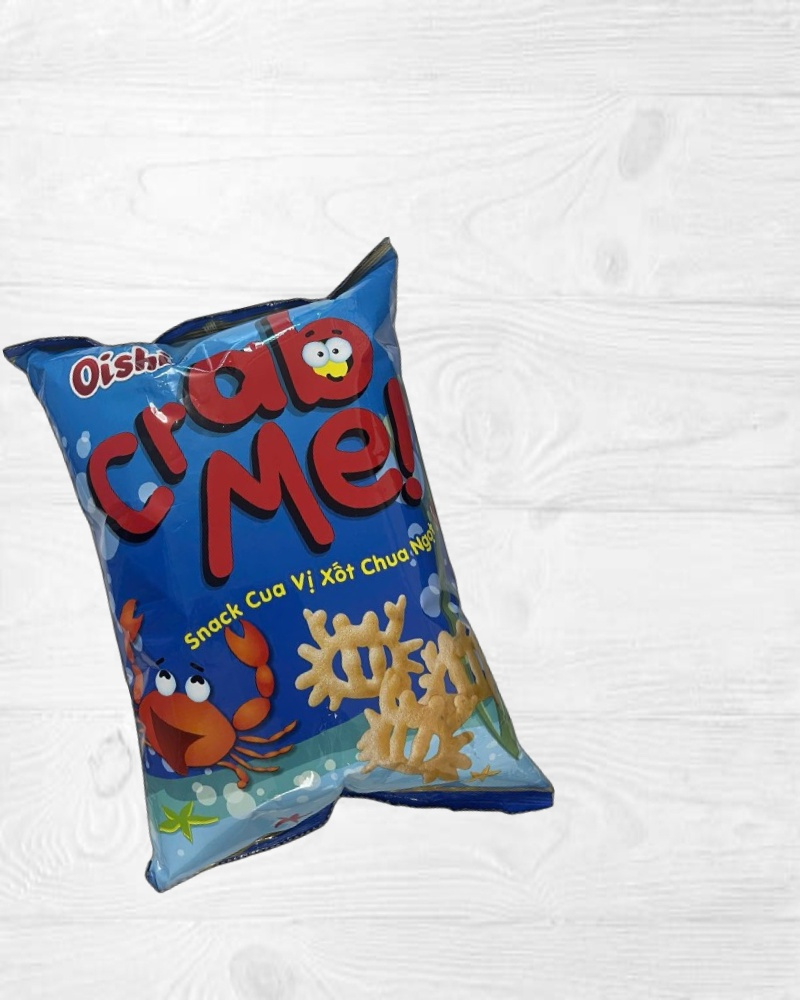Snack cua: (1, 233, 557, 907)
